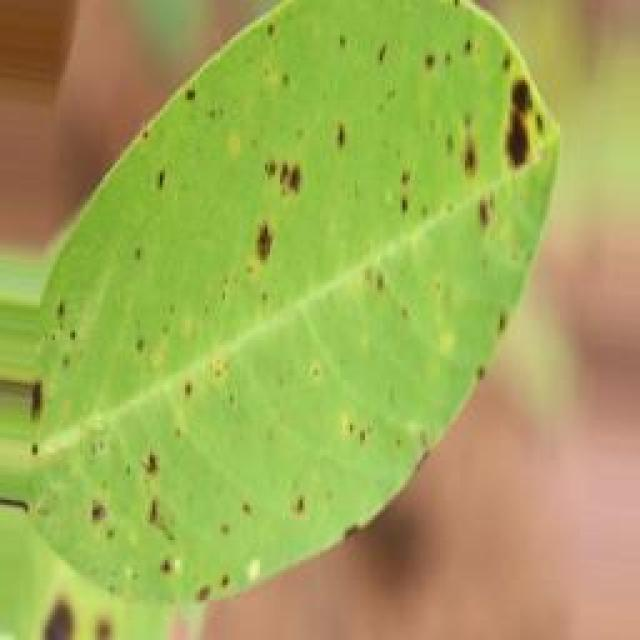Yellowish: (50, 0, 545, 585)
